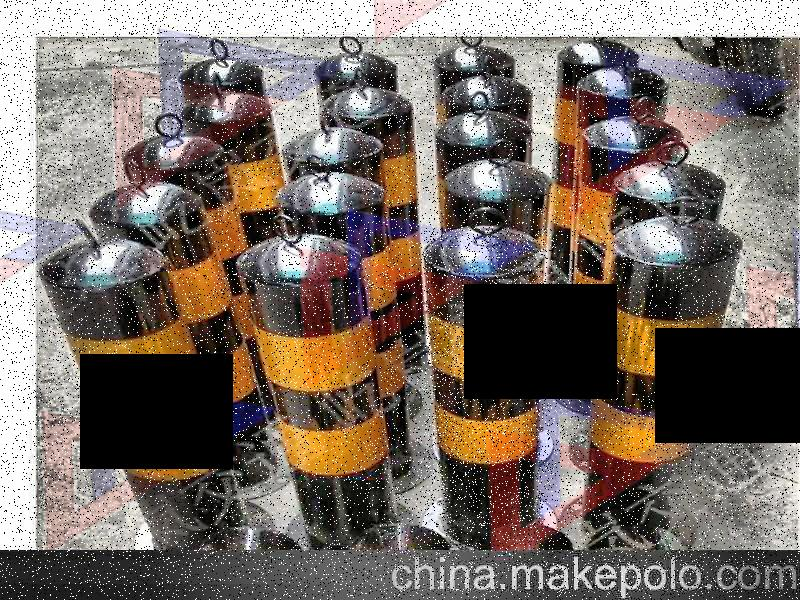bench: (424, 227, 550, 547)
